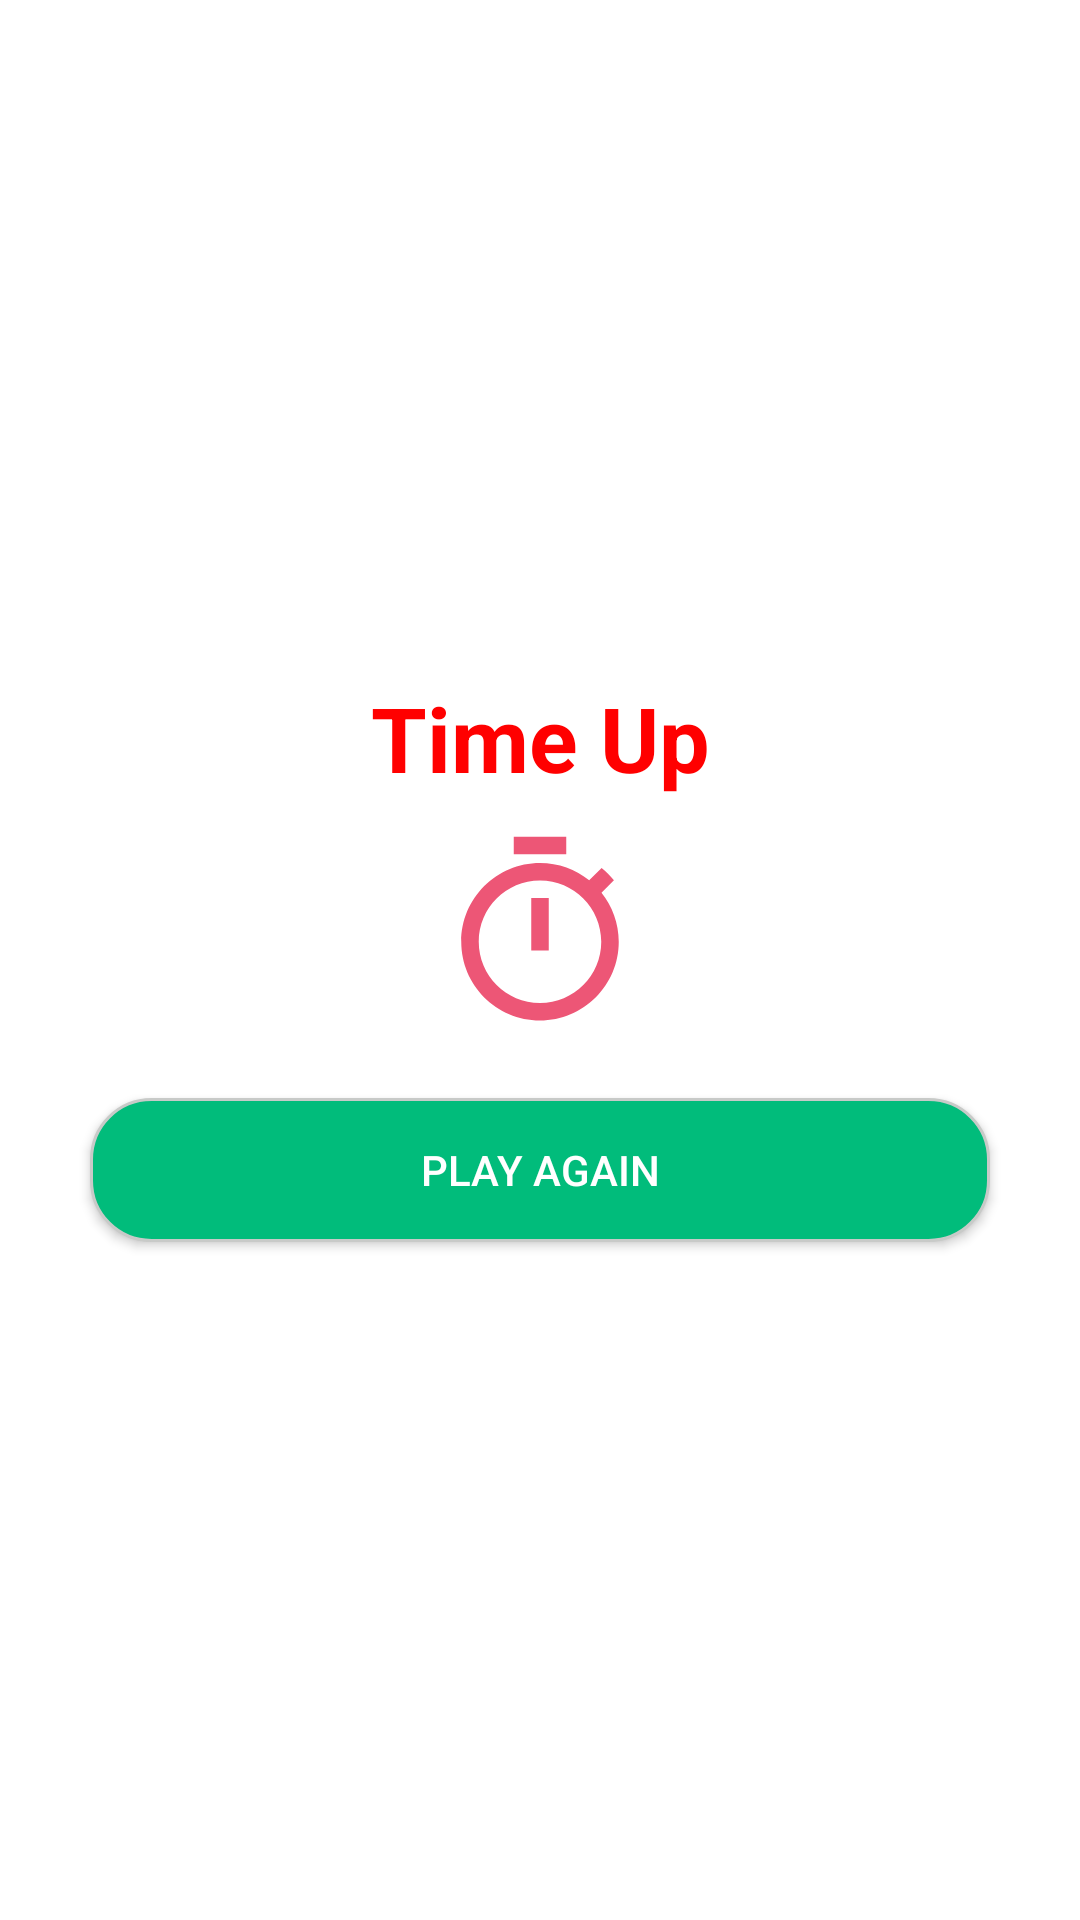

Where to tap for icons on this 1080×1920 app screen, as [x,y]:
timer: [540,928]
